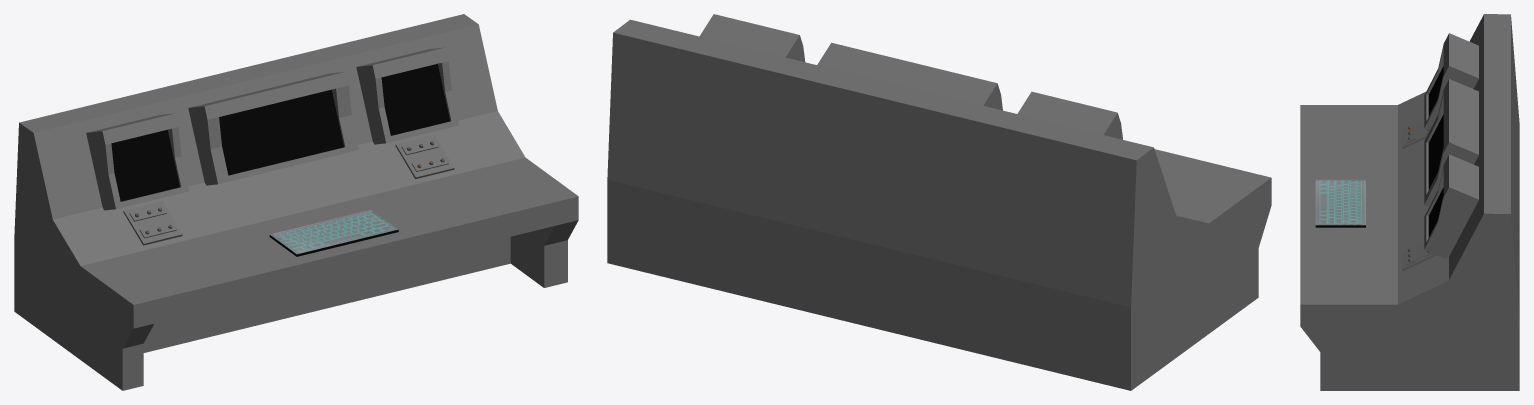
Rendered from Terminal1.fbx.
3 renders of one model, left to right at view 1: azimuth 30°, elevation 25°; view 2: azimuth 150°, elevation 25°; view 3: azimuth 270°, elevation 25°, orthographic. The views are drawn at different scales.
Parts seen in each view (by area): view 1: pCube13; view 2: pCube13; view 3: pCube13.
Part boxes in pixels (x1,y1,x2,y2): pCube13: (14,14,578,390); pCube13: (607,14,1271,390); pCube13: (1300,14,1519,390).
Size of the model in its own units: 6.45 by 2.72 by 3.
